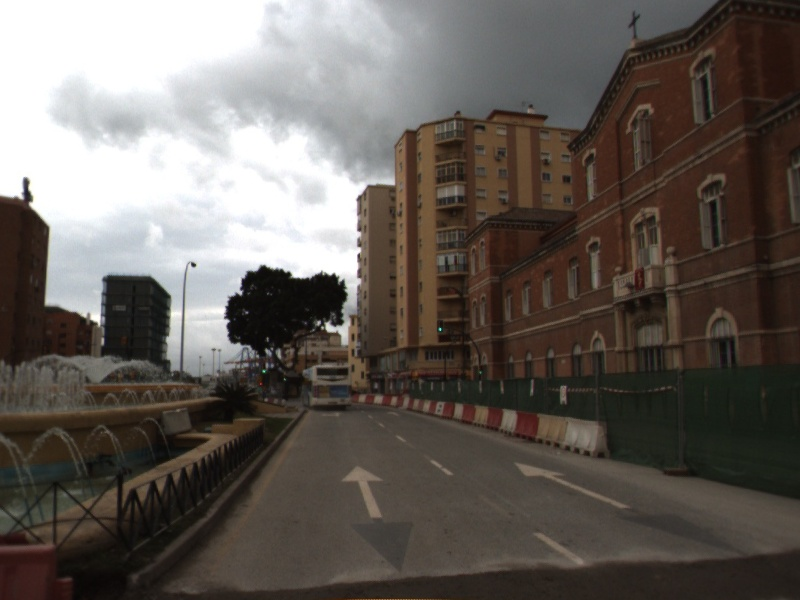STRAIGHT: (513, 460, 634, 510), (339, 463, 388, 520)
